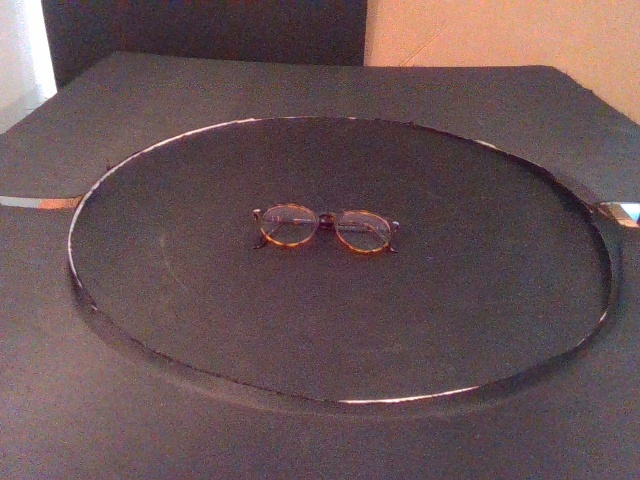glasses: (251, 202, 401, 256)
